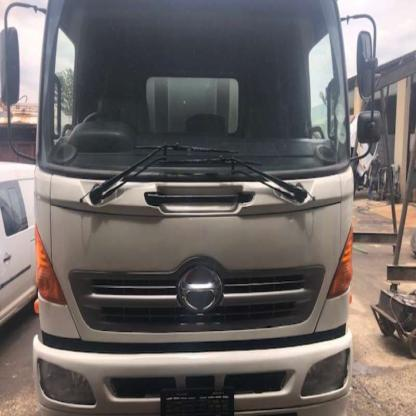dump_truck: (9, 1, 366, 413)
